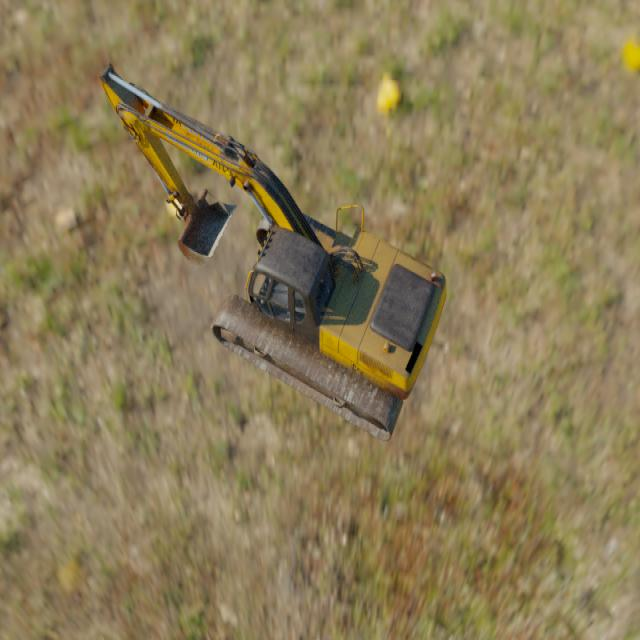excavator: (98, 61, 447, 442)
